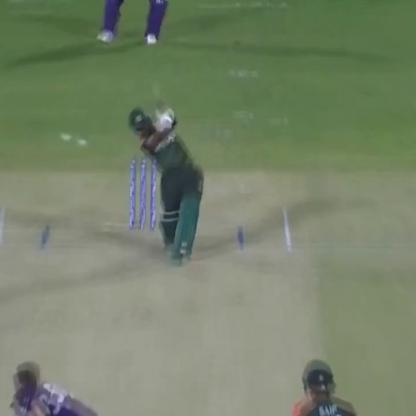ball: (74, 132, 93, 152), (54, 129, 73, 148)
bat: (145, 83, 179, 137)
pitch: (0, 206, 346, 415)
